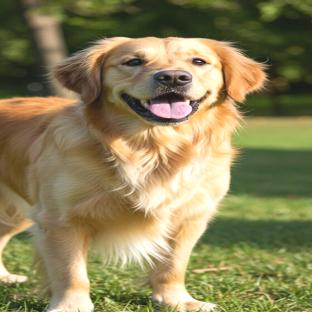Animal: (0, 37, 266, 312)
